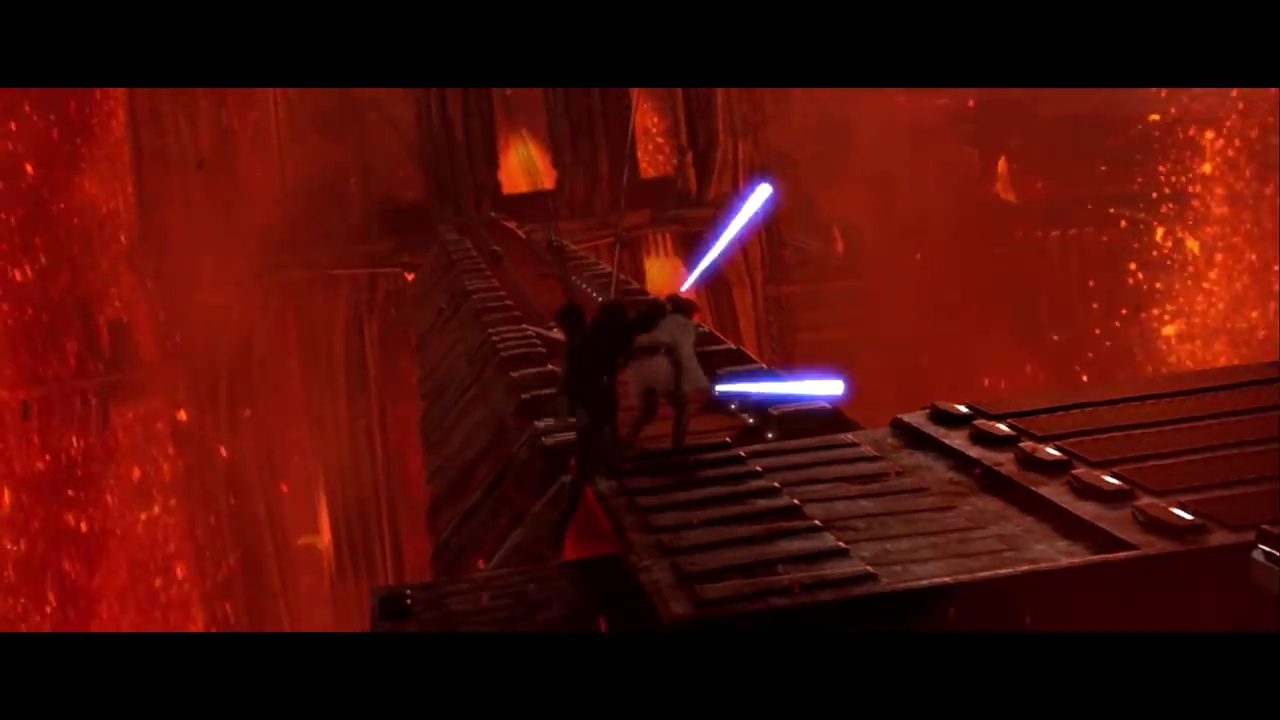lightsaber: (666, 173, 804, 302), (709, 371, 873, 390)
